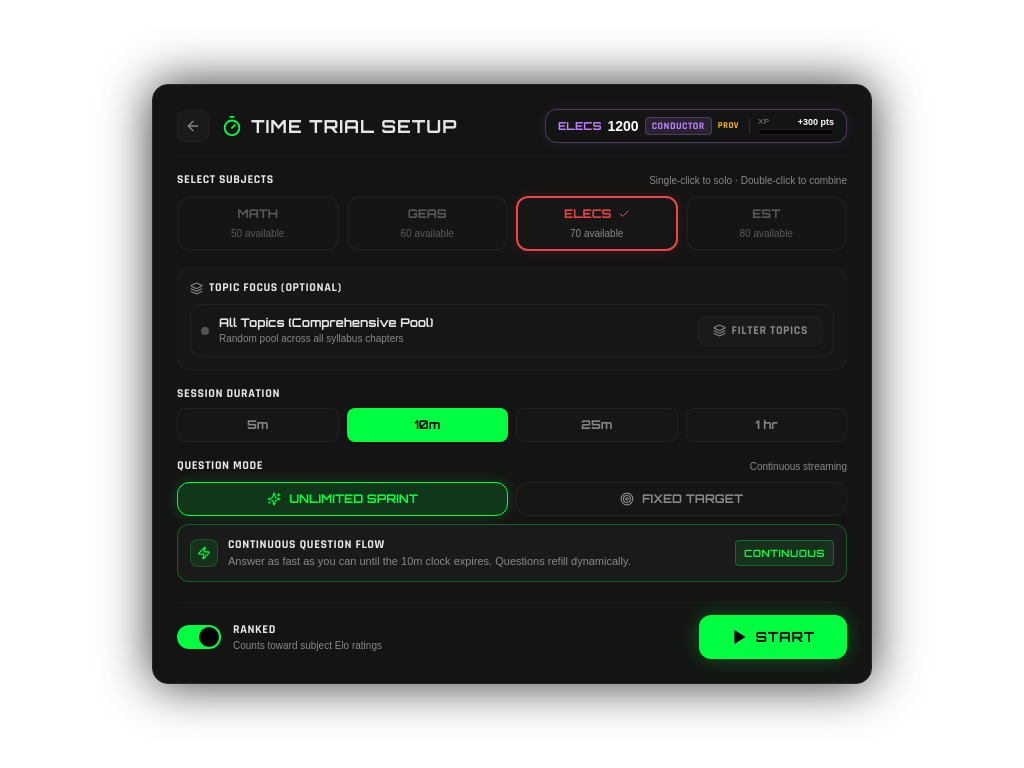
Test: GauntletSetup Component › defaults topic modal tab to solo subject when filter topics is clicked
The image size is (1024, 768).
Step 1. Click the button "Filter Topics" → (760, 330), box [698,316,823,346]
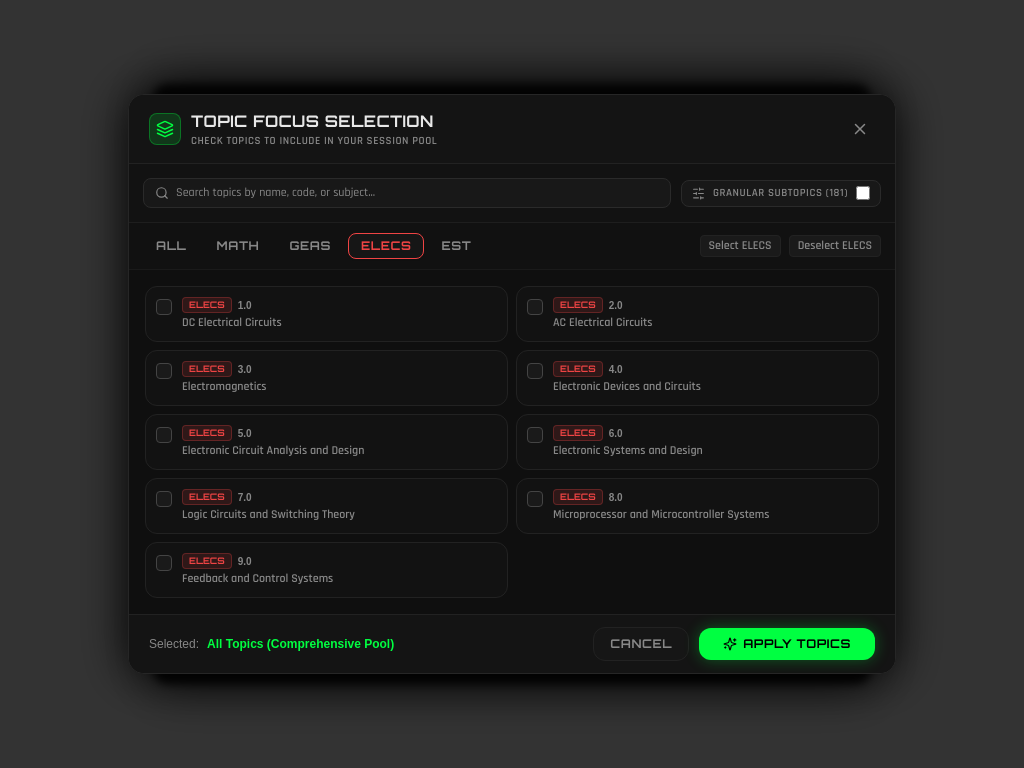
Result: the button "ELECS" is shown at [348,233,424,259]
